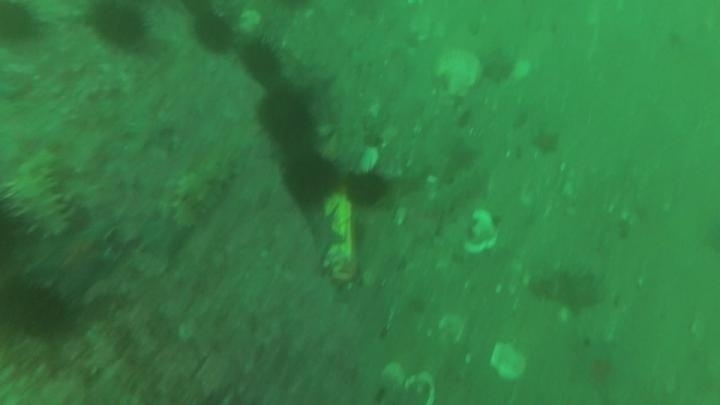echinus: (1, 275, 73, 341), (256, 87, 317, 147), (280, 149, 341, 207), (83, 2, 152, 53), (238, 37, 284, 86), (190, 11, 236, 56), (1, 1, 43, 47), (343, 169, 391, 209)
holothurian: (4, 146, 73, 242), (168, 153, 240, 231), (524, 258, 605, 314)
scallop: (432, 47, 484, 99)
starfish: (25, 220, 121, 301), (529, 127, 563, 157)
